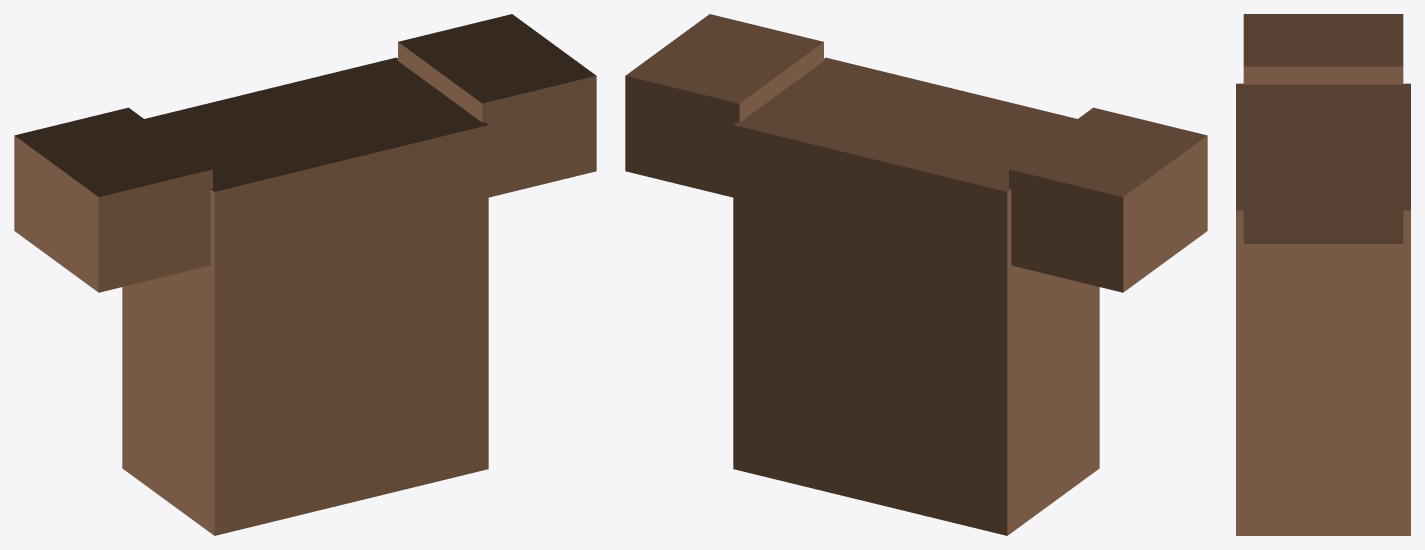
The model's file is roupa_armadura.obj.
3 views of the same model, side by side, from view 1: azimuth 30°, elevation 25°; view 2: azimuth 150°, elevation 25°; view 3: azimuth 270°, elevation 25° (orthographic). The views are drawn at different scales.
Parts seen in each view (by area): view 1: peitoral, ombreira_esq, ombreira_dir; view 2: peitoral, ombreira_esq, ombreira_dir; view 3: peitoral, ombreira_dir, ombreira_esq.
Boxes of the visible parts, left/top/right/bottom form: peitoral: left=122, top=57, right=488, bottom=535; ombreira_esq: left=14, top=107, right=212, bottom=292; ombreira_dir: left=398, top=14, right=596, bottom=197; peitoral: left=733, top=57, right=1099, bottom=535; ombreira_esq: left=1009, top=107, right=1207, bottom=292; ombreira_dir: left=625, top=14, right=823, bottom=197; peitoral: left=1236, top=83, right=1410, bottom=535; ombreira_dir: left=1243, top=191, right=1403, bottom=334; ombreira_esq: left=1243, top=14, right=1403, bottom=84.
Bounding box in the file's own units: 1.09 × 0.76 × 0.35.
